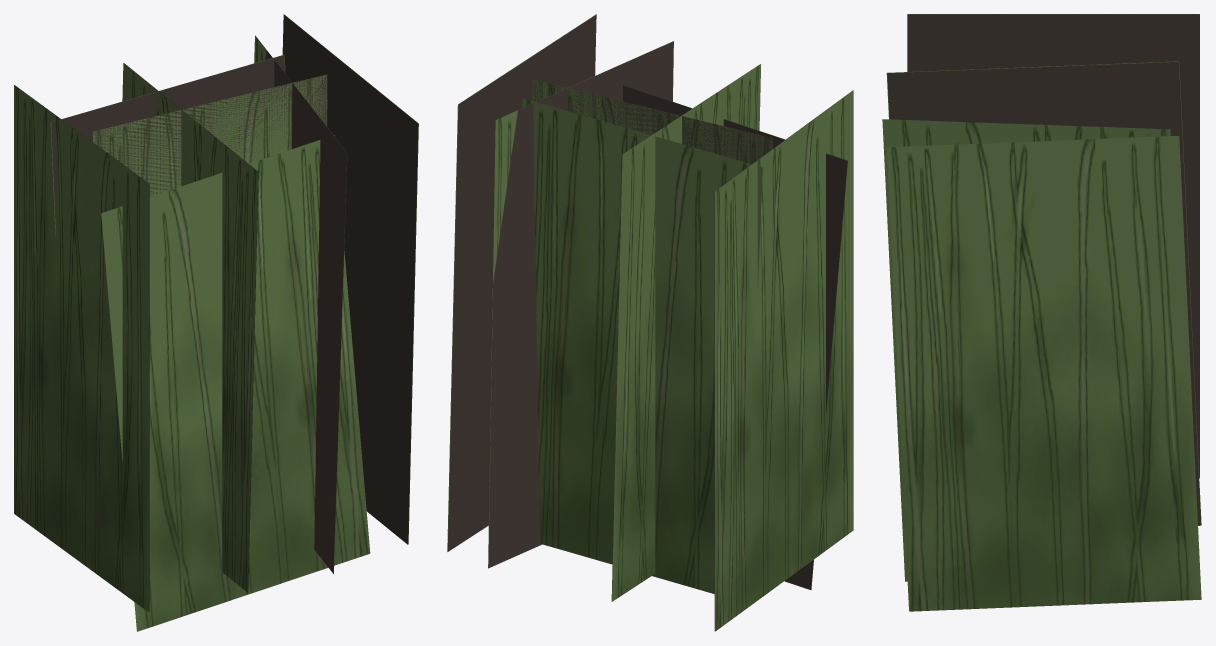
The model's file is mveg4b.glb.
3 renders of one model, left to right at view 1: azimuth 30°, elevation 25°; view 2: azimuth 150°, elevation 25°; view 3: azimuth 270°, elevation 25°, orthographic. The views are drawn at different scales.
Visible parts, largest first — view 1: 01 Mesh0, 01 Mesh0.001; view 2: 01 Mesh0, 01 Mesh0.001; view 3: 01 Mesh0, 01 Mesh0.001.
Part boxes in pixels (box(x1,y1,x2,y2)): 01 Mesh0: box(14, 14, 418, 631); 01 Mesh0.001: box(15, 15, 418, 611); 01 Mesh0: box(447, 14, 853, 631); 01 Mesh0.001: box(447, 15, 852, 630); 01 Mesh0: box(882, 14, 1201, 611); 01 Mesh0.001: box(887, 14, 1201, 611).
Size of the model in its own units: 2.4 by 3.96 by 2.18.
Materials: 2 (1 with a texture image).
